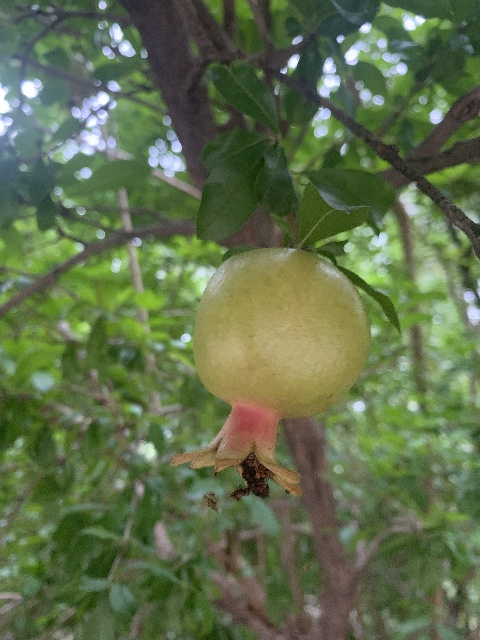mid-growth: (170, 248, 372, 498)
